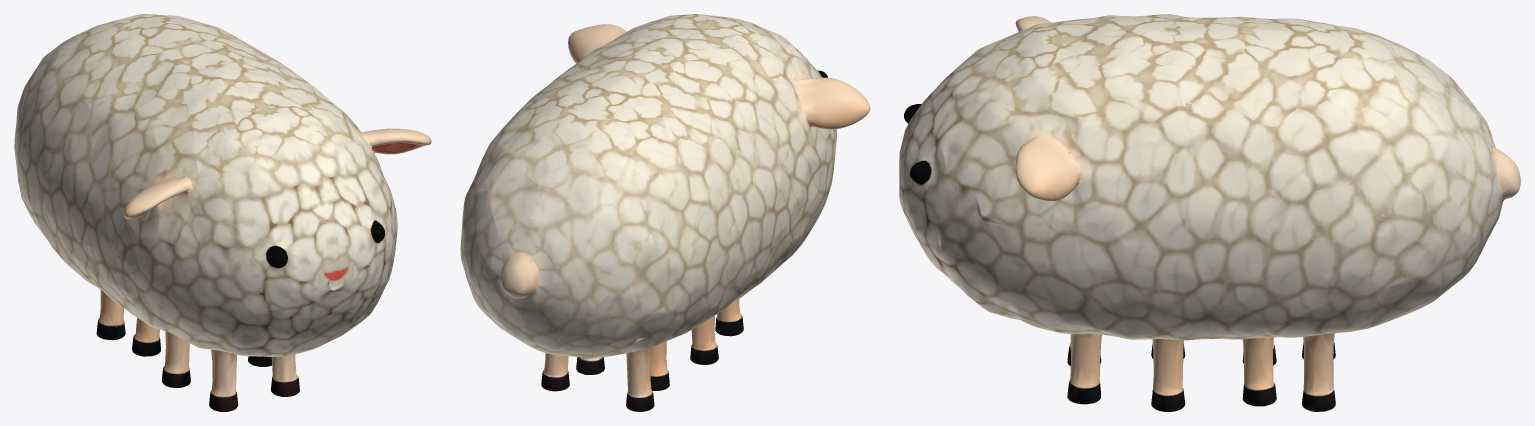
The model's file is sheep.glb.
3 renders of one model, left to right at view 1: azimuth 30°, elevation 25°; view 2: azimuth 150°, elevation 25°; view 3: azimuth 270°, elevation 25°, orthographic. The views are drawn at different scales.
Size of the model in its own units: 1.25 by 1.2 by 1.91.
Materials: 1 (1 with a texture image).
